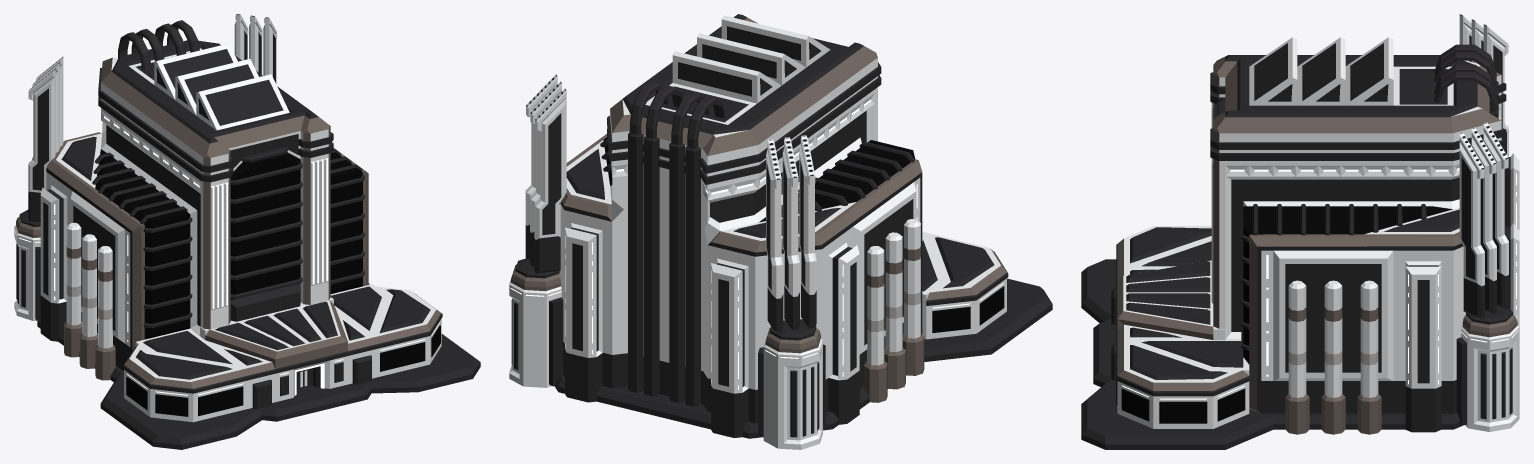
Rendered from GourmetFactory.fbx.
3 renders of one model, left to right at view 1: azimuth 30°, elevation 25°; view 2: azimuth 150°, elevation 25°; view 3: azimuth 270°, elevation 25°, orthographic. The views are drawn at different scales.
Visible parts, largest first — view 1: GourmetFactory_BigBody, GourmetFactory_Body, GourmetFactory_Parts, GourmetFactory_Foundation, GourmetFactory_Chimney; view 2: GourmetFactory_BigBody, GourmetFactory_Parts, GourmetFactory_Chimney, GourmetFactory_Body, GourmetFactory_Foundation; view 3: GourmetFactory_BigBody, GourmetFactory_Body, GourmetFactory_Parts, GourmetFactory_Foundation, GourmetFactory_Chimney.
Part boxes in pixels (x1=…): GourmetFactory_BigBody: x1=14, y1=40, x2=368, y2=370; GourmetFactory_Body: x1=123, y1=284, x2=442, y2=422; GourmetFactory_Parts: x1=64, y1=20, x2=369, y2=380; GourmetFactory_Foundation: x1=37, y1=317, x2=480, y2=449; GourmetFactory_Chimney: x1=28, y1=14, x2=276, y2=222; GourmetFactory_BigBody: x1=509, y1=14, x2=922, y2=449; GourmetFactory_Parts: x1=600, y1=62, x2=924, y2=406; GourmetFactory_Chimney: x1=525, y1=74, x2=816, y2=332; GourmetFactory_Body: x1=922, y1=231, x2=1008, y2=339; GourmetFactory_Foundation: x1=554, y1=278, x2=1052, y2=438; GourmetFactory_BigBody: x1=1211, y1=37, x2=1519, y2=432; GourmetFactory_Body: x1=1111, y1=226, x2=1249, y2=428; GourmetFactory_Parts: x1=1210, y1=44, x2=1506, y2=434; GourmetFactory_Foundation: x1=1081, y1=259, x2=1462, y2=449; GourmetFactory_Chimney: x1=1459, y1=14, x2=1508, y2=318.
Size of the model in its own units: 3600 by 2770 by 3650.
Materials: 1 (1 with a texture image).
